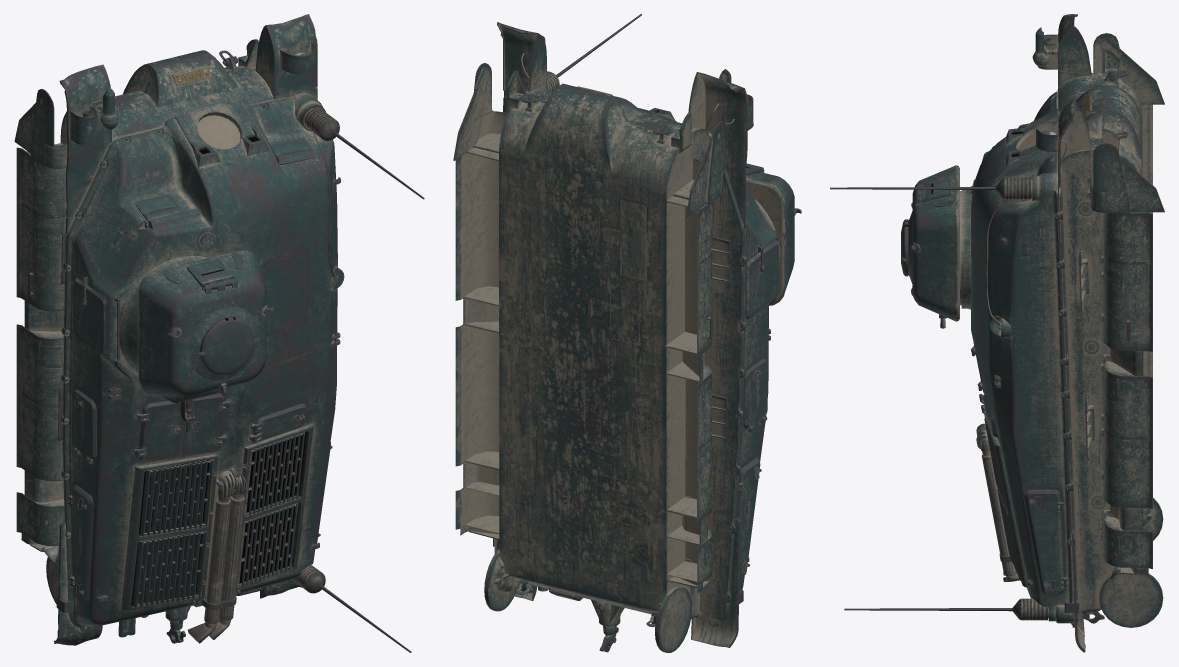
The model's file is Hull.glb.
3 views of the same model, side by side, from view 1: azimuth 30°, elevation 25°; view 2: azimuth 150°, elevation 25°; view 3: azimuth 270°, elevation 25° (orthographic). The views are drawn at different scales.
Visible parts, largest first — view 1: set_0_group_0; view 2: set_0_group_0; view 3: set_0_group_0.
Part boxes in pixels (x1,y1,x2,y2): set_0_group_0: (14,14,424,652); set_0_group_0: (453,14,801,652); set_0_group_0: (830,14,1164,652).
Size of the model in its own units: 2.47 by 5.7 by 3.08.
Materials: 1 (1 with a texture image).
